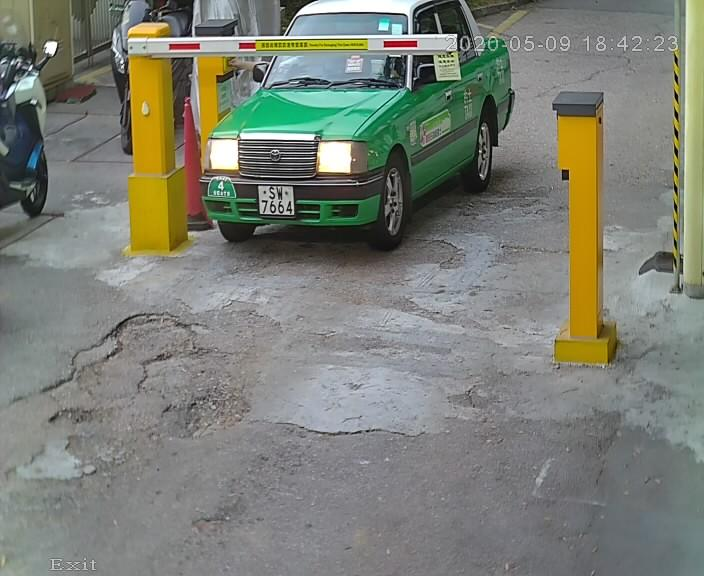Car: (189, 1, 527, 271)
License Plate: (245, 178, 306, 222)
